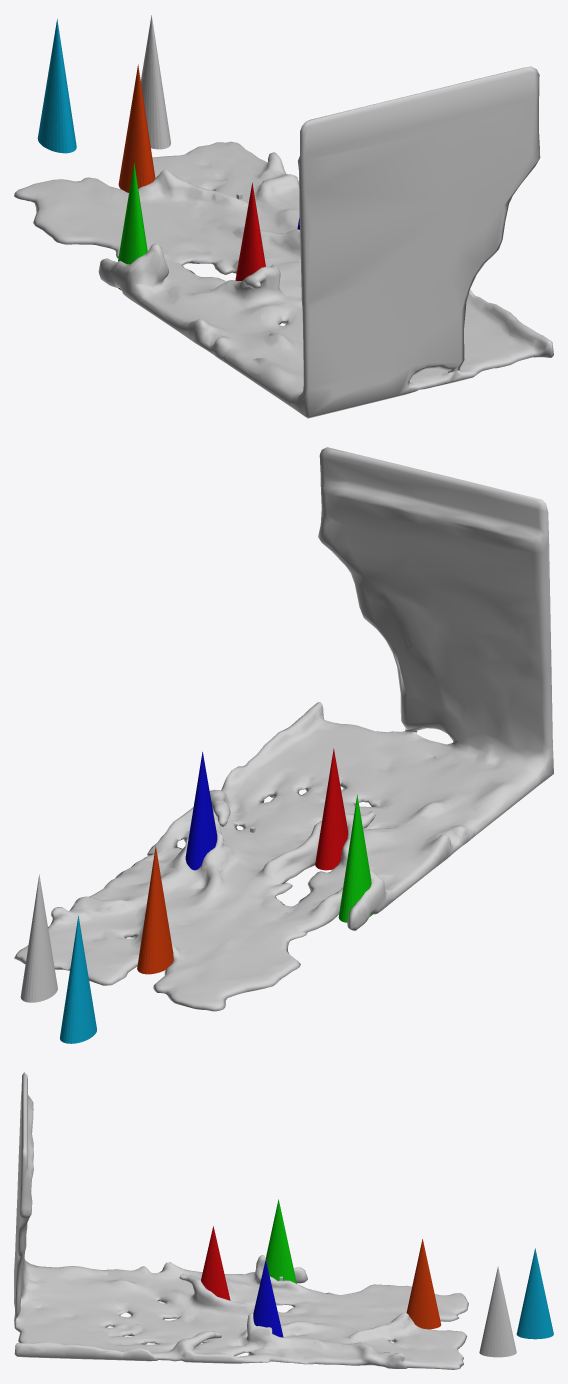
3 views of the same model, one above another, from view 1: azimuth 30°, elevation 25°; view 2: azimuth 150°, elevation 25°; view 3: azimuth 270°, elevation 25° (orthographic). The views are drawn at different scales.
Parts seen in each view (by area): view 1: Liquid_Domain, 円錐.005, 円錐.004, 円錐, 円錐.003, 円錐.001; view 2: Liquid_Domain, 円錐, 円錐.005, 円錐.004, 円錐.001, 円錐.002, 円錐.003; view 3: Liquid_Domain, 円錐, 円錐.005, 円錐.004, 円錐.003, 円錐.002, 円錐.001.
Part boxes in pixels (x1=…): Liquid_Domain: x1=14, y1=66, x2=553, y2=418; 円錐.005: x1=37, y1=19, x2=76, y2=153; 円錐.004: x1=118, y1=64, x2=155, y2=192; 円錐: x1=140, y1=15, x2=170, y2=149; 円錐.003: x1=118, y1=162, x2=147, y2=289; 円錐.001: x1=235, y1=182, x2=265, y2=280; Liquid_Domain: x1=14, y1=447, x2=553, y2=1011; 円錐: x1=20, y1=874, x2=57, y2=1002; 円錐.005: x1=60, y1=915, x2=96, y2=1043; 円錐.004: x1=137, y1=845, x2=173, y2=974; 円錐.001: x1=315, y1=748, x2=347, y2=870; 円錐.002: x1=185, y1=752, x2=217, y2=870; 円錐.003: x1=338, y1=795, x2=372, y2=922; Liquid_Domain: x1=14, y1=1072, x2=468, y2=1369; 円錐: x1=479, y1=1266, x2=516, y2=1357; 円錐.005: x1=516, y1=1248, x2=553, y2=1339; 円錐.004: x1=406, y1=1239, x2=441, y2=1329; 円錐.003: x1=266, y1=1199, x2=296, y2=1283; 円錐.002: x1=253, y1=1260, x2=283, y2=1337; 円錐.001: x1=201, y1=1226, x2=230, y2=1300.
Bounding box in the file's own units: 129 × 157 × 347.
